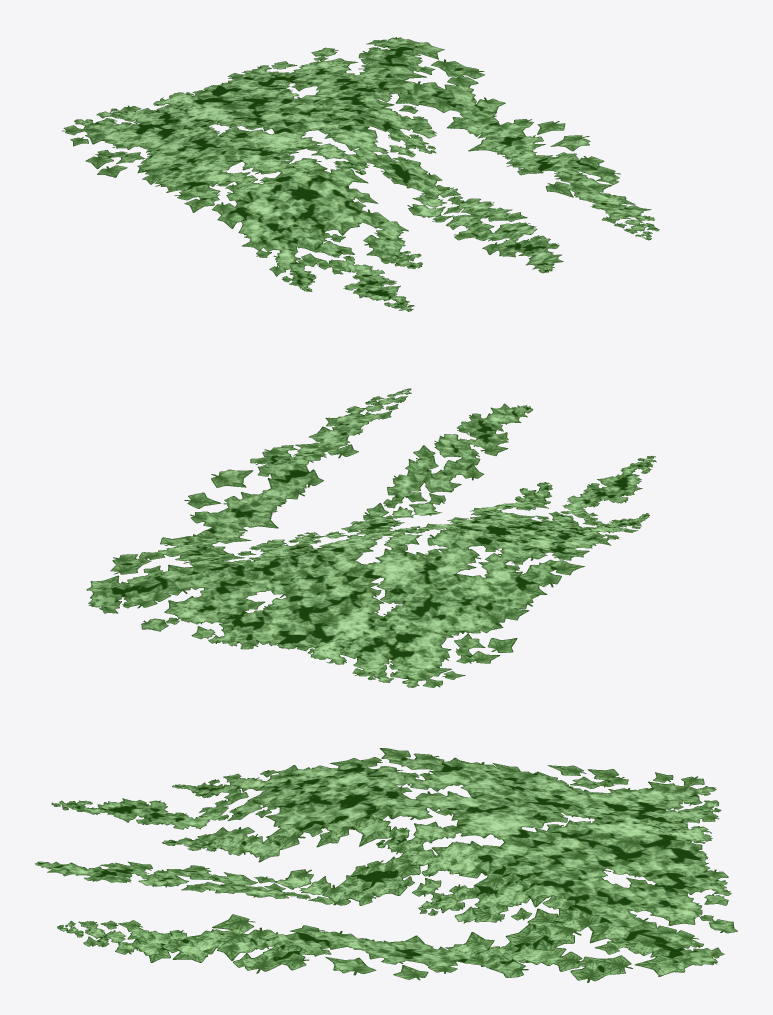
File: SM_Vines02.fbx
3 renders of one model, top to bottom at view 1: azimuth 30°, elevation 25°; view 2: azimuth 150°, elevation 25°; view 3: azimuth 270°, elevation 25°, orthographic. The views are drawn at different scales.
Visible parts, largest first — view 1: SM_Vines02; view 2: SM_Vines02; view 3: SM_Vines02.
Part boxes in pixels (box(x1,y1,x2,y2)): SM_Vines02: box(62, 37, 659, 311); SM_Vines02: box(86, 388, 656, 687); SM_Vines02: box(35, 748, 737, 982).
Size of the model in its own units: 214 by 285 by 14.55.
